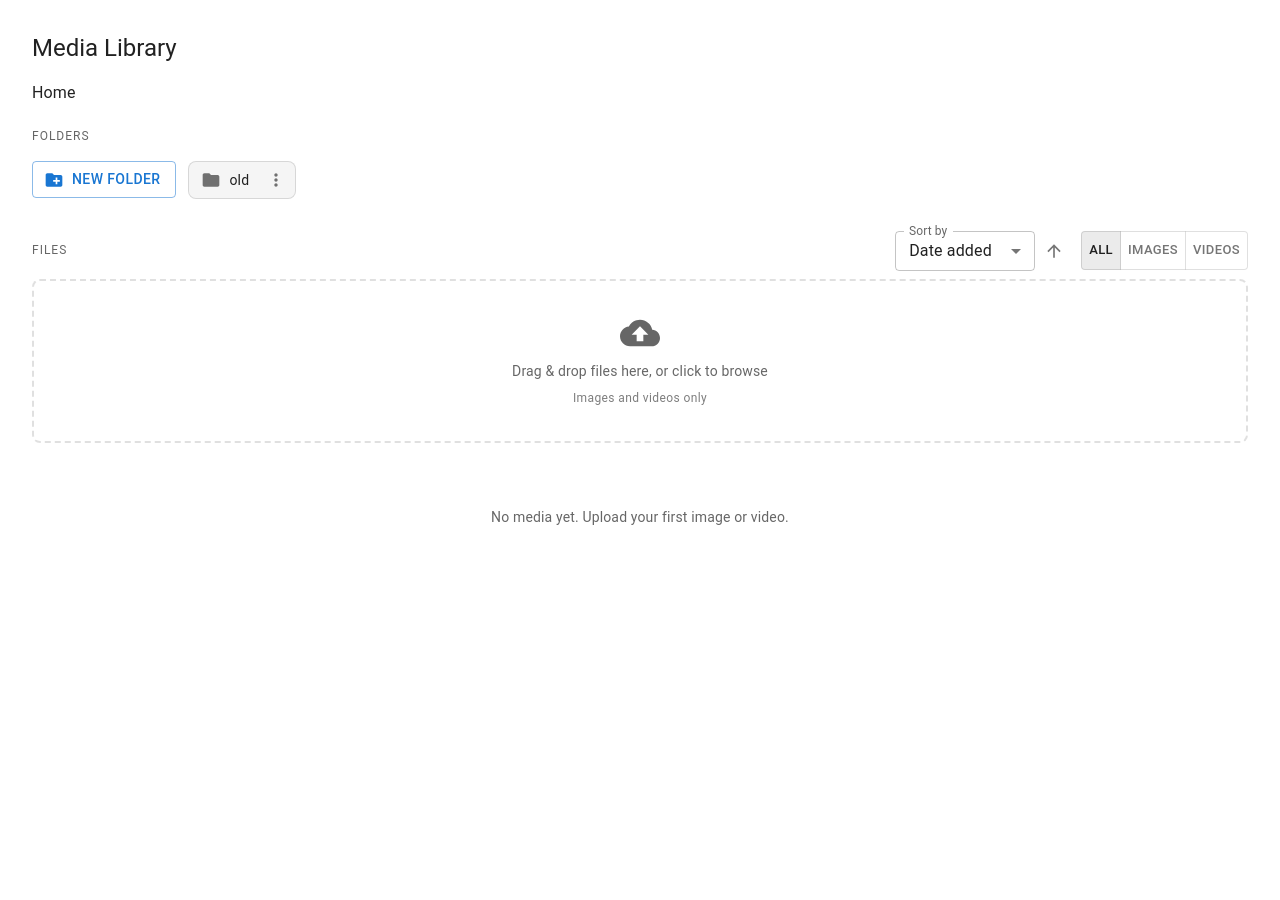
Test: MediaPage › renames a folder in place from the more menu
Expected: the text "old" is shown, [229,170,249,190]
Click the button named "More actions" at (276, 180), box [261,165,291,195]
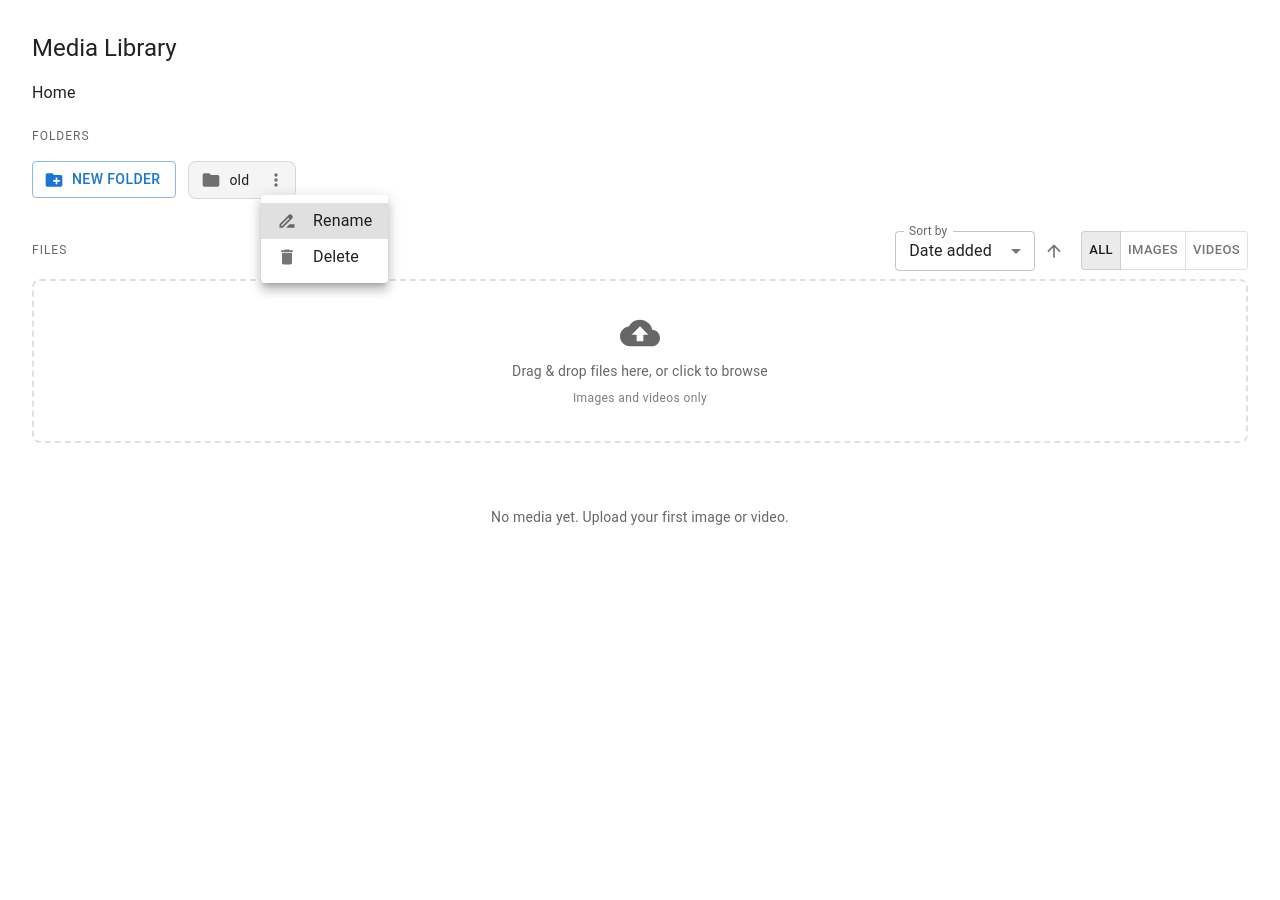
Click the menu item "Rename" at (325, 221), box [261,203,388,239]
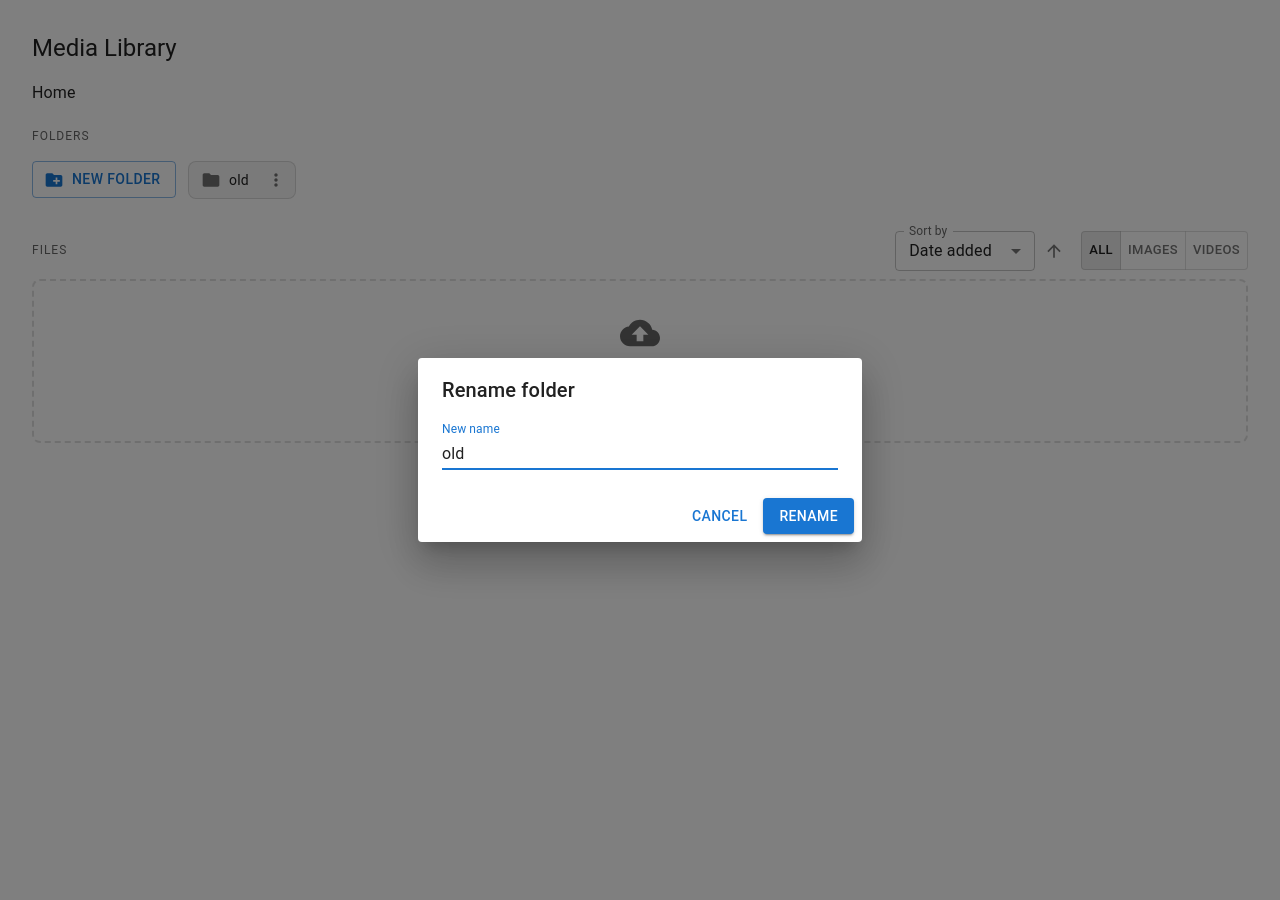
Replace the text in the field labelled "New name" with "new" at (640, 454), box [442,438,838,470]
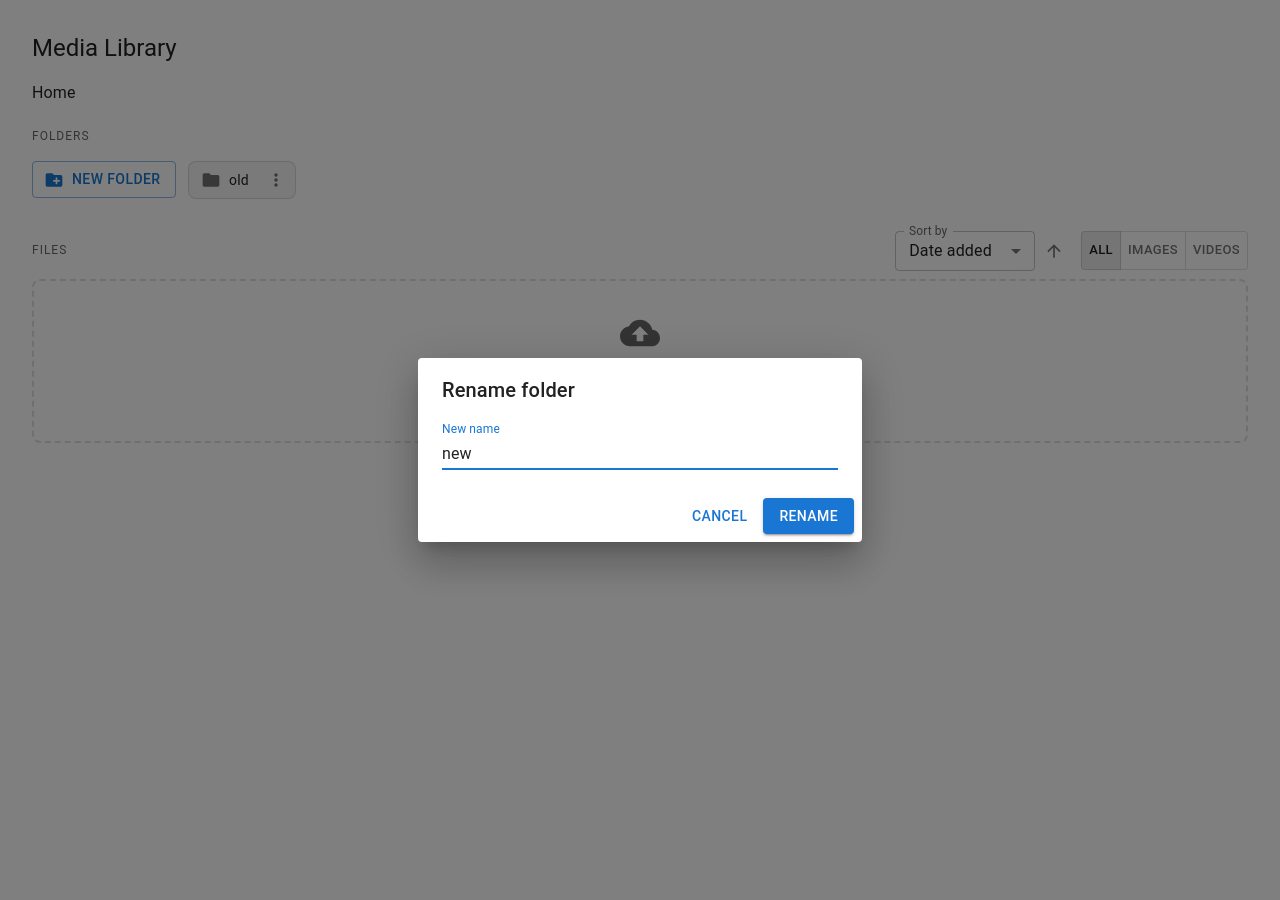
Click the button "Rename" at (809, 516), box [763,498,854,534]
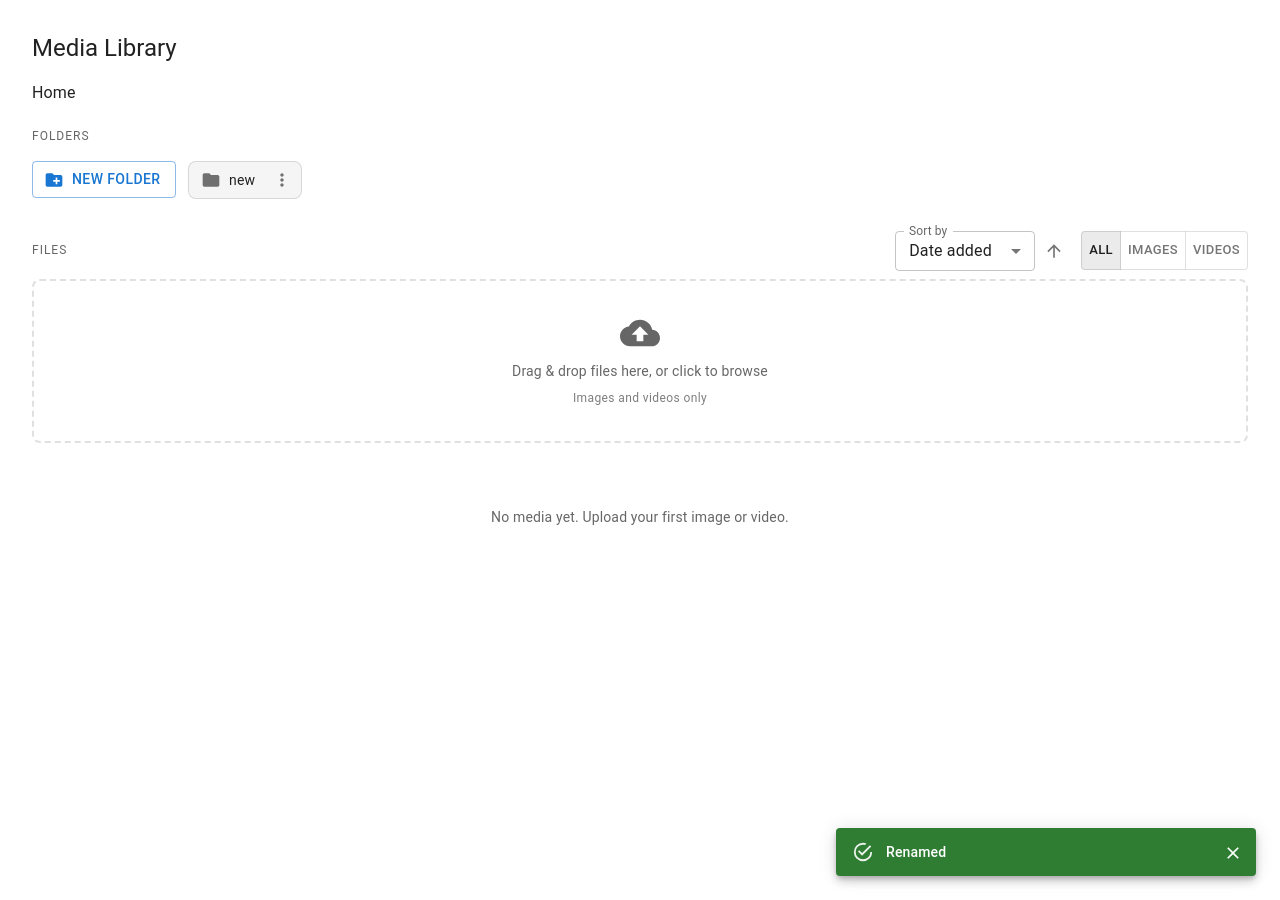
Now the text "new" is shown, box [229,170,256,190]
